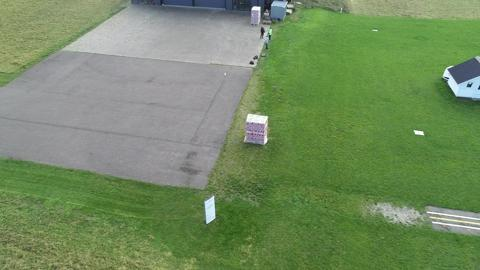RockwoolPallet: (250, 6, 262, 25)
